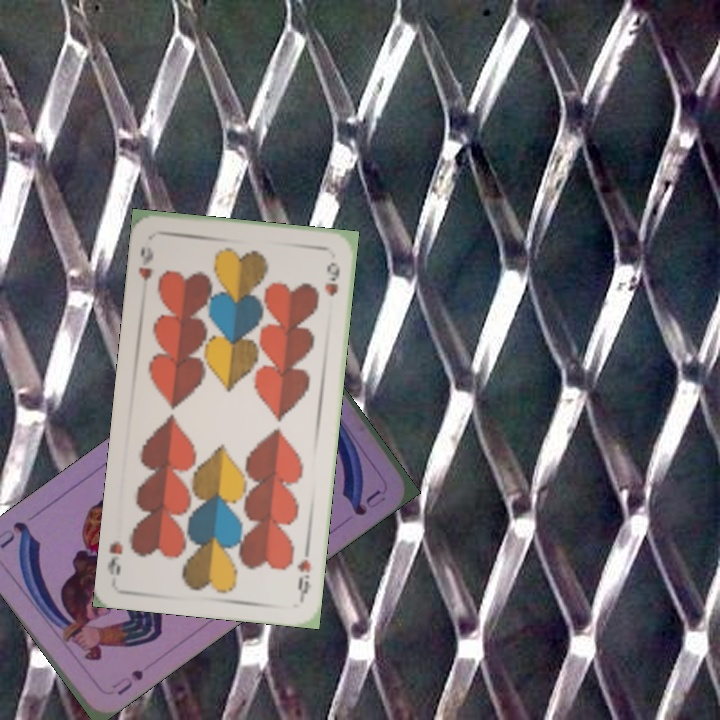H9: (293, 555, 313, 601), (135, 243, 157, 284)
SU: (107, 665, 146, 698)
